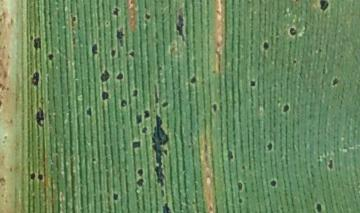tarspot: (149, 113, 169, 188), (172, 10, 190, 45), (32, 106, 47, 130), (151, 82, 163, 106), (115, 26, 127, 47), (98, 68, 112, 86), (317, 1, 334, 14), (98, 89, 113, 102), (30, 71, 42, 87), (129, 138, 143, 151), (287, 23, 299, 38), (325, 157, 337, 172), (90, 41, 100, 58), (133, 110, 145, 124), (267, 178, 281, 190), (159, 202, 174, 213), (330, 73, 340, 89), (114, 70, 127, 82), (226, 149, 238, 162), (280, 102, 293, 114), (260, 39, 272, 52), (33, 37, 44, 51), (312, 201, 324, 213), (118, 98, 131, 109), (134, 168, 148, 178), (141, 109, 153, 120), (264, 140, 275, 152), (210, 101, 220, 114), (110, 6, 121, 17), (126, 48, 137, 59), (189, 74, 199, 86), (235, 181, 245, 193), (85, 106, 94, 119), (36, 172, 46, 183), (109, 48, 119, 59), (143, 11, 153, 22), (135, 177, 146, 187), (46, 51, 55, 63), (131, 87, 139, 99), (160, 101, 172, 109), (111, 192, 120, 202), (28, 171, 37, 180), (236, 197, 245, 206), (248, 79, 258, 87), (71, 15, 80, 23), (141, 126, 148, 135), (91, 156, 98, 163), (291, 58, 299, 64), (28, 34, 35, 40), (104, 20, 111, 26)
